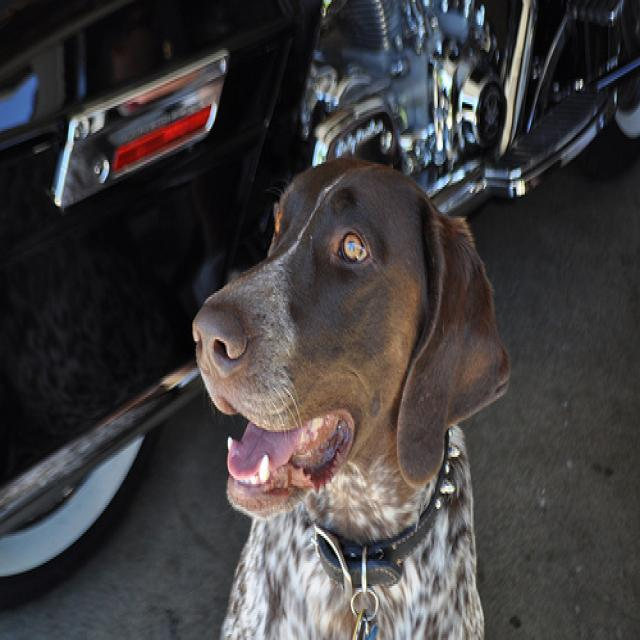dog-german_shorthaired: (184, 150, 525, 636)
